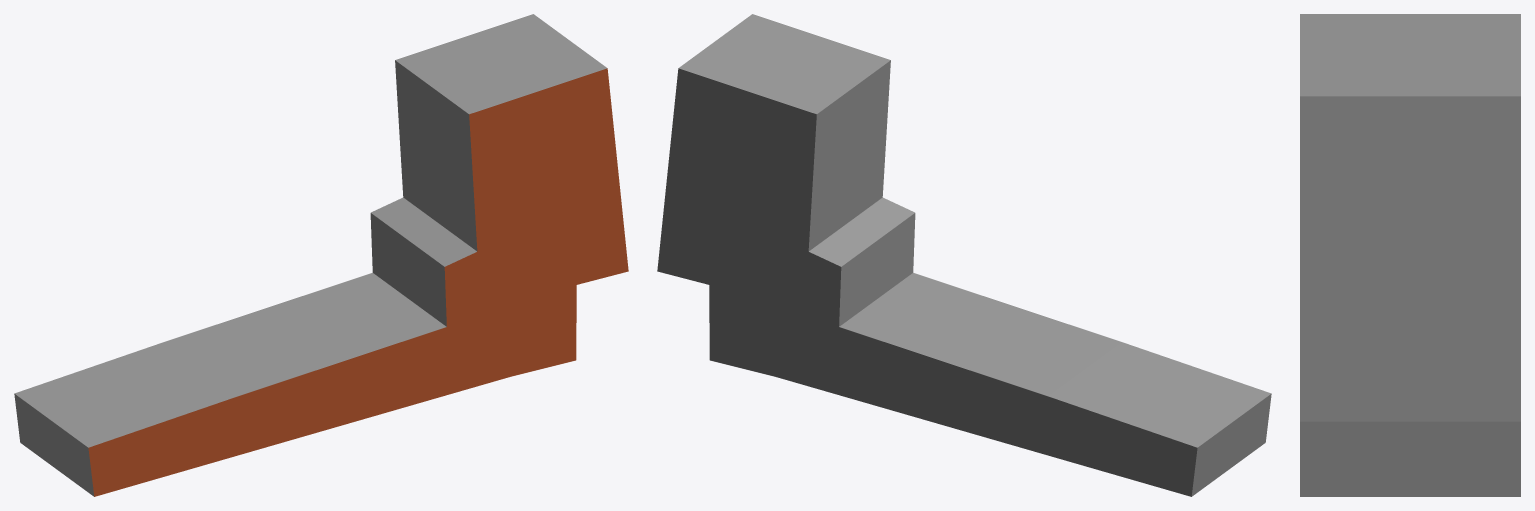
The model's file is construction_3921_assumed_A_Casa_h6m.obj.
3 renders of one model, left to right at view 1: azimuth 30°, elevation 25°; view 2: azimuth 150°, elevation 25°; view 3: azimuth 270°, elevation 25°, orthographic. The views are drawn at different scales.
Visible parts, largest first — view 1: construction_3921_assumed_A_Casa; view 2: construction_3921_assumed_A_Casa; view 3: construction_3921_assumed_A_Casa.
Part boxes in pixels (x1,y1,x2,y2): construction_3921_assumed_A_Casa: (14, 14, 628, 496); construction_3921_assumed_A_Casa: (657, 14, 1271, 496); construction_3921_assumed_A_Casa: (1300, 14, 1520, 496).
Bounding box in the file's own units: 25.25 × 13.55 × 6.
